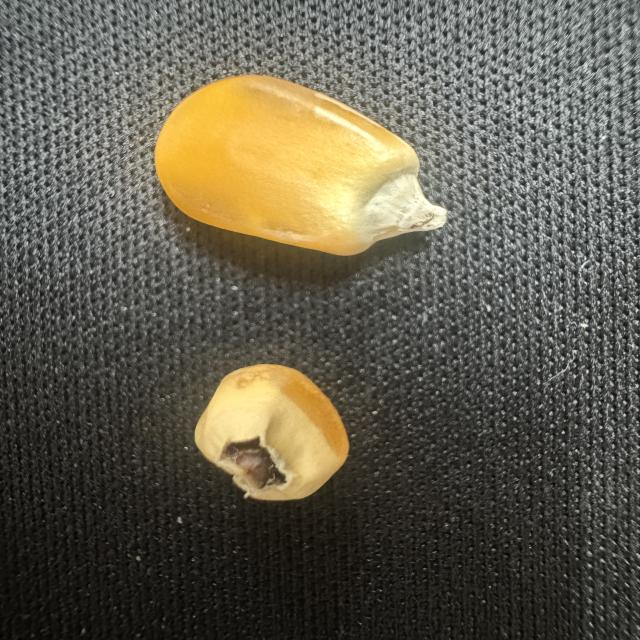Bad-Seed: (190, 361, 354, 506)
Good-Seed: (148, 71, 454, 262)
